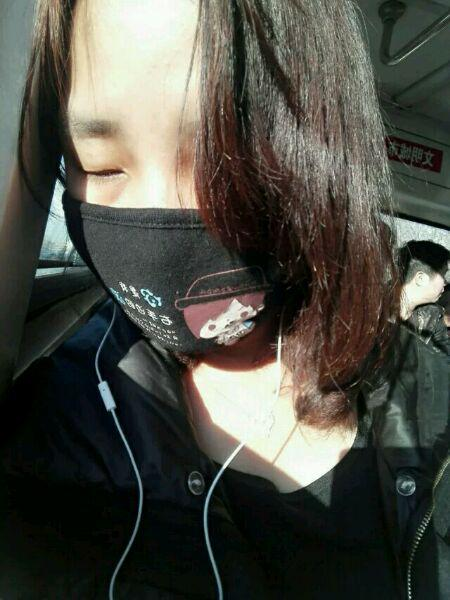OK: (53, 101, 316, 364)
